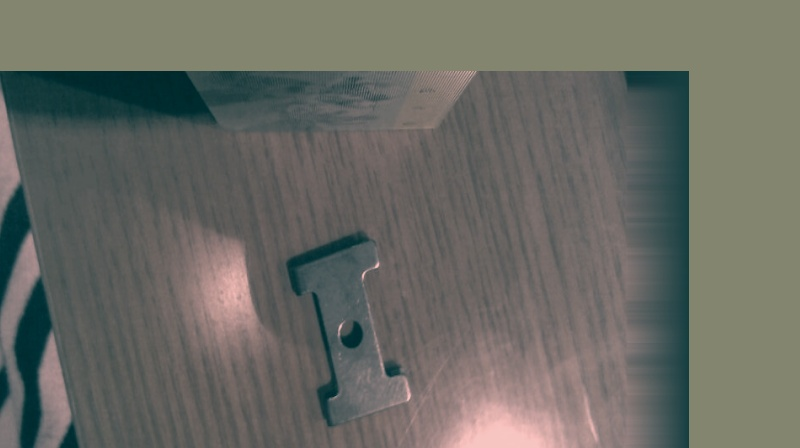O002: (287, 235, 413, 427)
